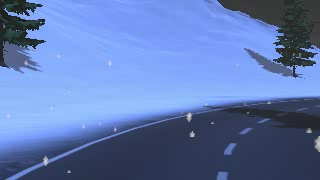Lane: (9, 98, 319, 179)
